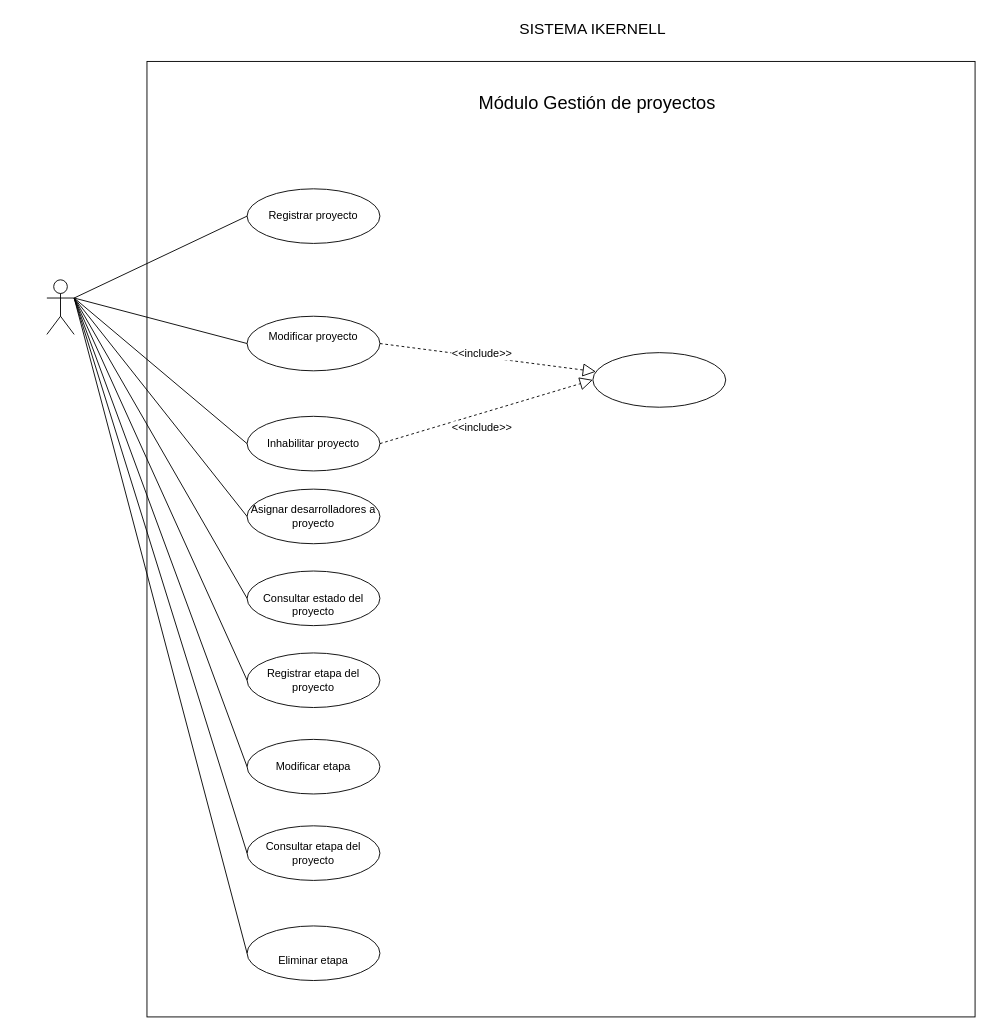
This 991x1033 diagram has some shape labels left out. Each missing label, with the box of its shape:
Buscar proyecto: (592, 352, 726, 407)
Líder de proyectos: (46, 279, 74, 334)
